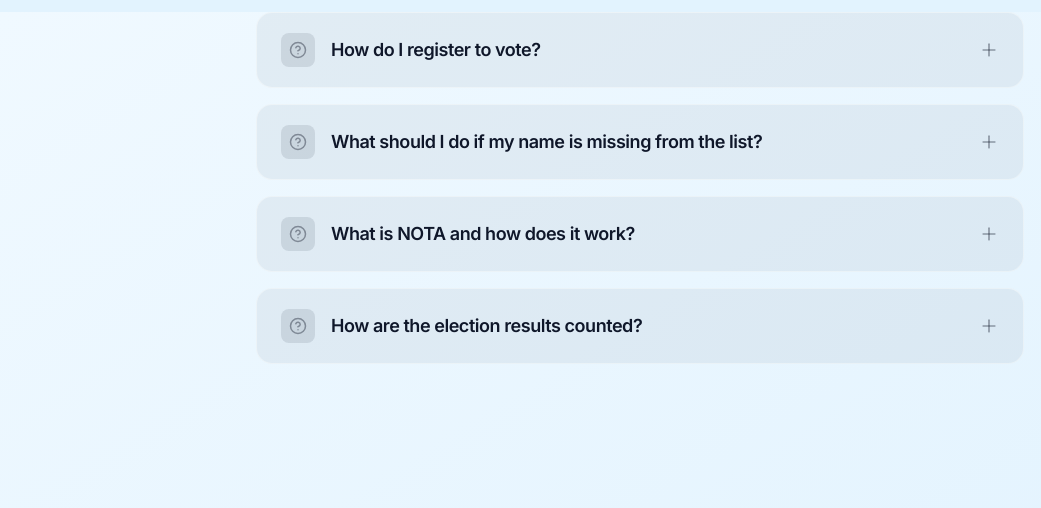
Test: FAQ Component › Accordion Interaction › opens the NOTA question and shows its full answer
Click the button "What is NOTA and how does it work?" at (298, 234), box [257,197,1023,271]
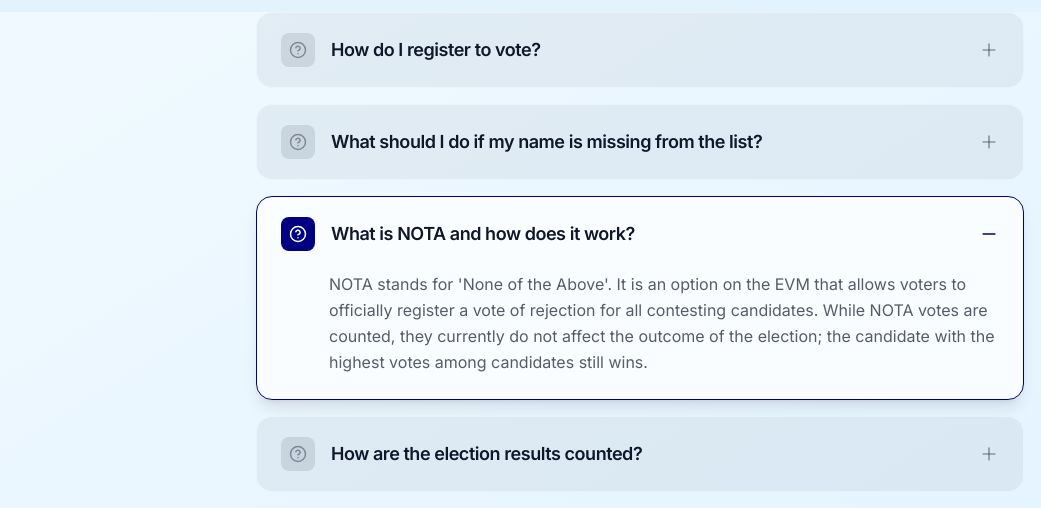
Result: the text "None of the Above" is shown at [329,274,995,372]
